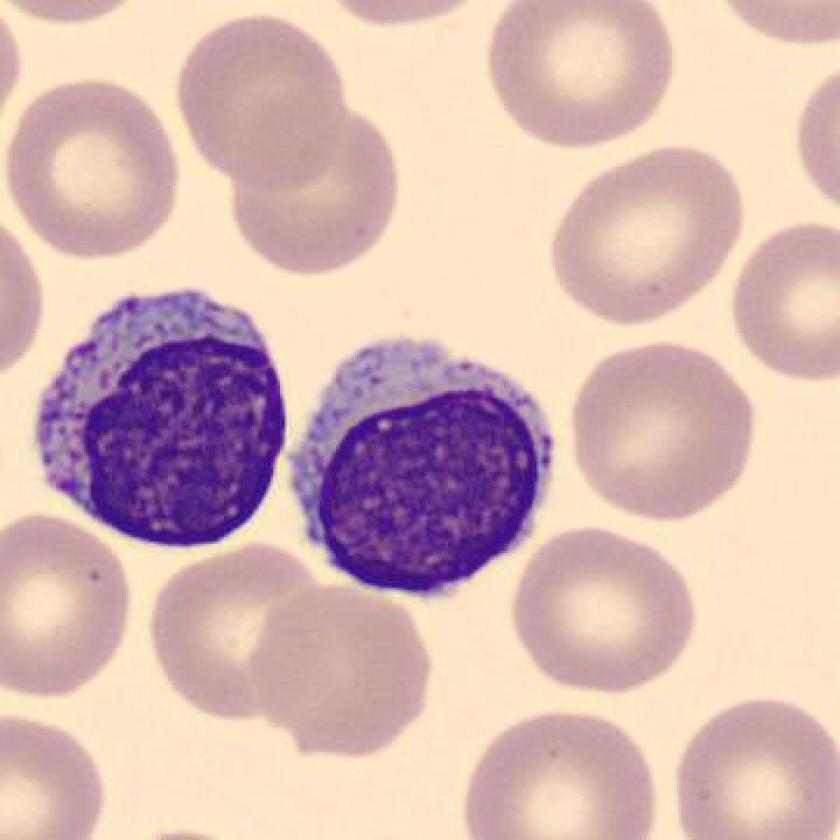lymphocyte: (274, 320, 573, 612)
